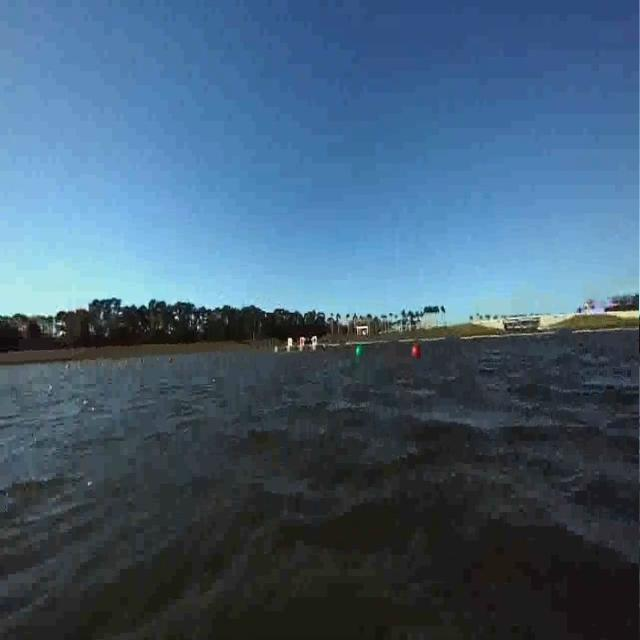green-buoy: (356, 340, 365, 361)
red-buoy: (411, 340, 422, 359)
